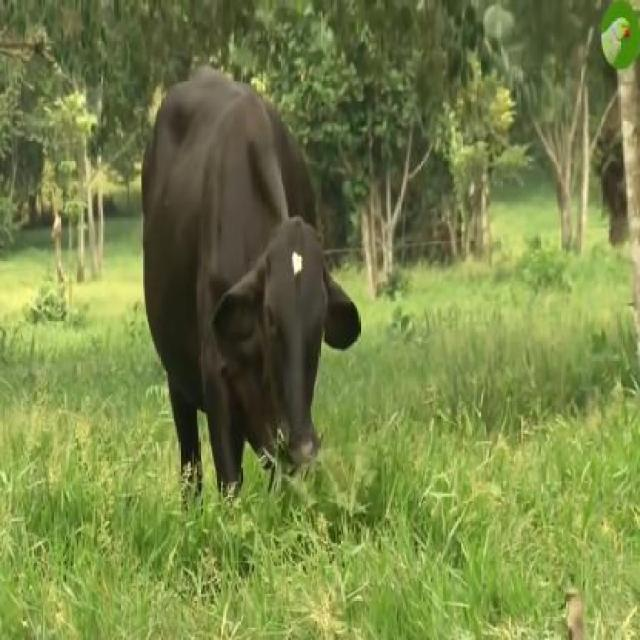Cow: (142, 68, 360, 504)
